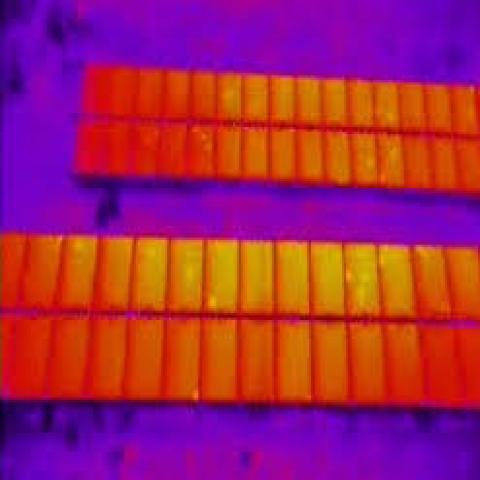fault: (352, 278, 368, 315), (70, 236, 86, 261), (204, 294, 220, 313), (345, 264, 356, 290), (190, 383, 202, 405)
